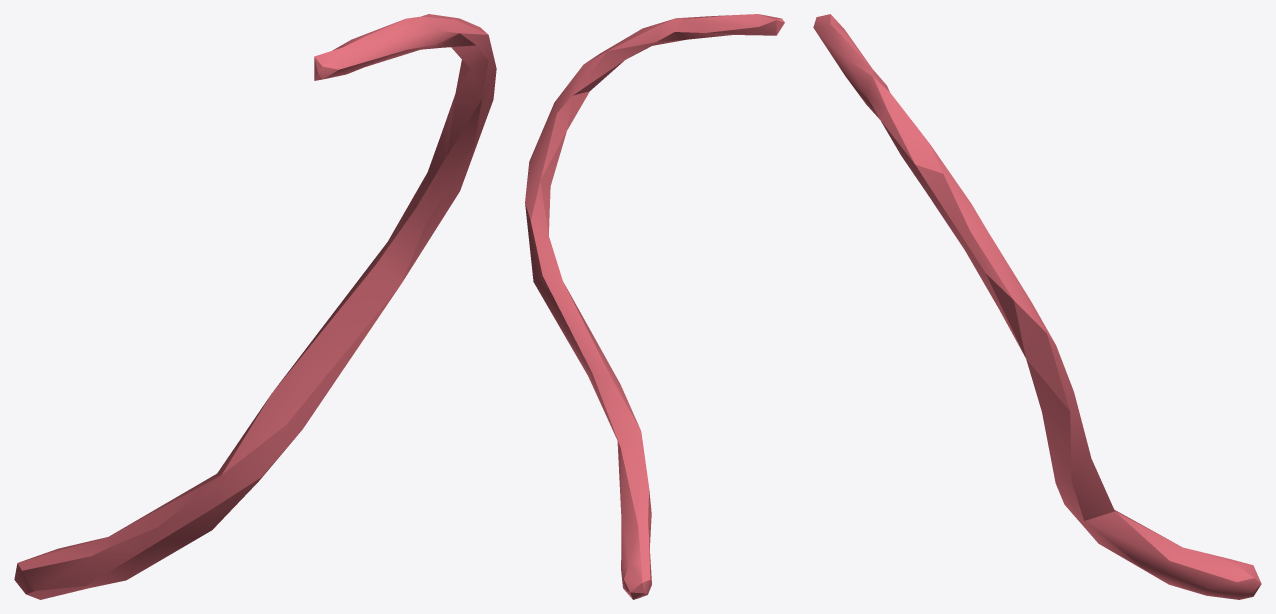
Rendered from fma50520_fj1709m.glb.
3 views of the same model, side by side, from view 1: azimuth 30°, elevation 25°; view 2: azimuth 150°, elevation 25°; view 3: azimuth 270°, elevation 25° (orthographic). The views are drawn at different scales.
Visible parts, largest first — view 1: FMA50520_FJ1709M; view 2: FMA50520_FJ1709M; view 3: FMA50520_FJ1709M.
Boxes of the visible parts, x1,y1,x2,y2 form: FMA50520_FJ1709M: (14, 14, 496, 599); FMA50520_FJ1709M: (525, 14, 784, 599); FMA50520_FJ1709M: (813, 14, 1261, 599).
Bounding box in the file's own units: 0.00443 × 0.00939 × 0.00636.
